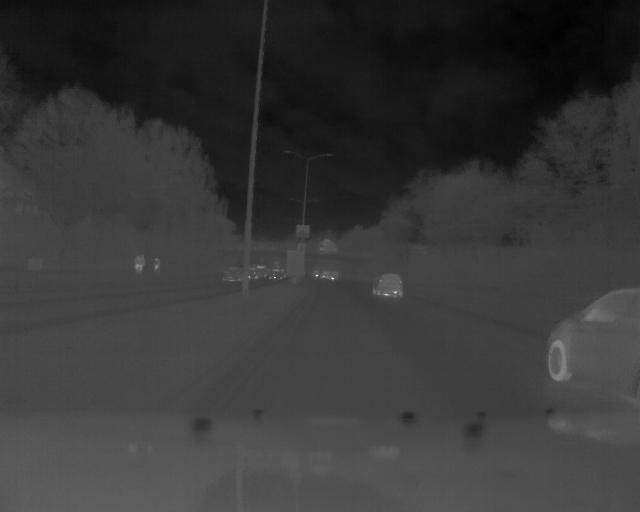car: (534, 281, 640, 408), (370, 271, 405, 304), (224, 264, 250, 286)
person: (132, 254, 143, 279), (151, 255, 161, 282)
